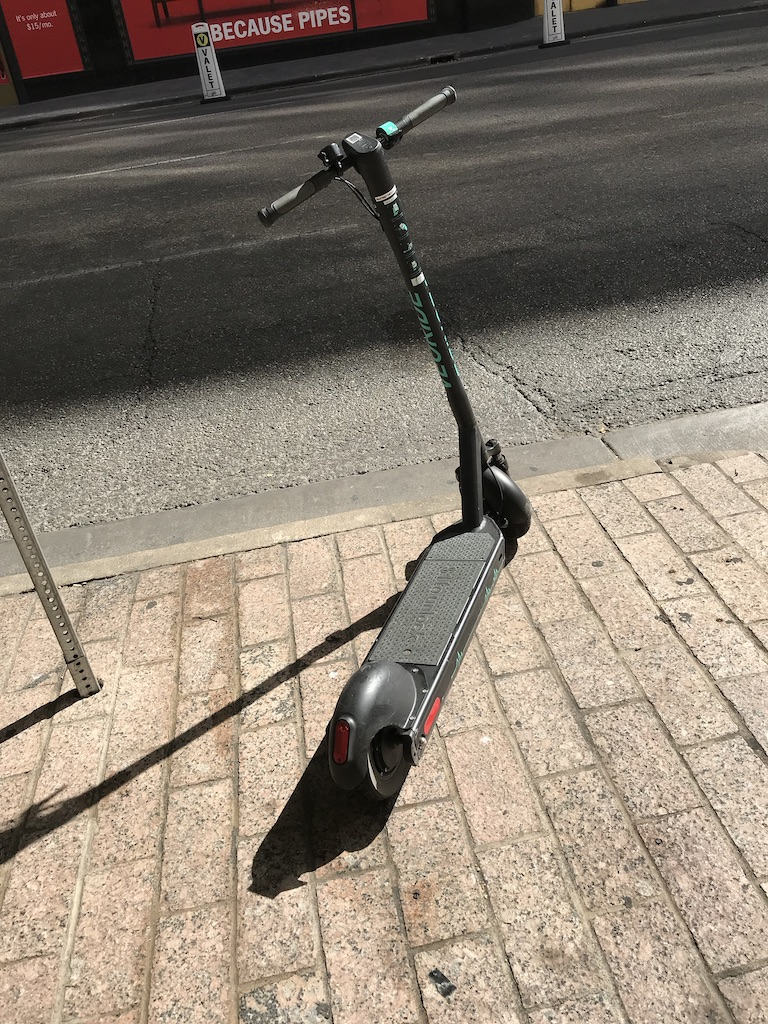scooter: (255, 83, 531, 805)
